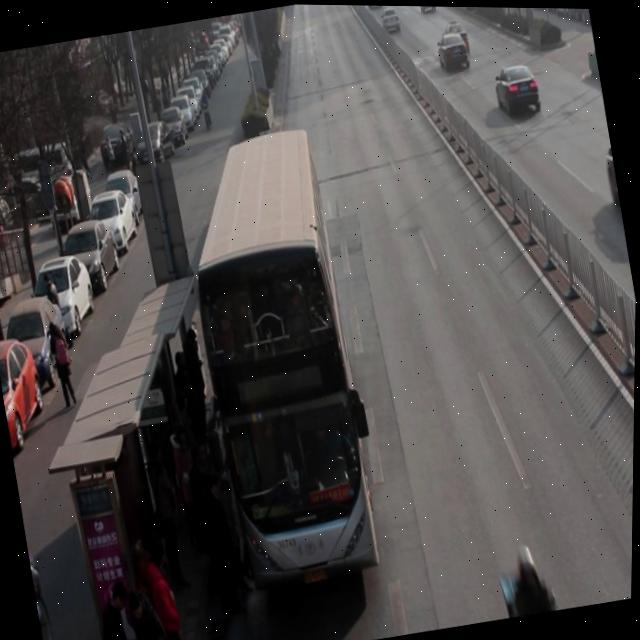car: (491, 58, 545, 120), (435, 28, 473, 74), (441, 15, 473, 57), (379, 4, 404, 38), (364, 4, 382, 10)
truck: (415, 5, 438, 14)
van: (169, 130, 388, 588)
